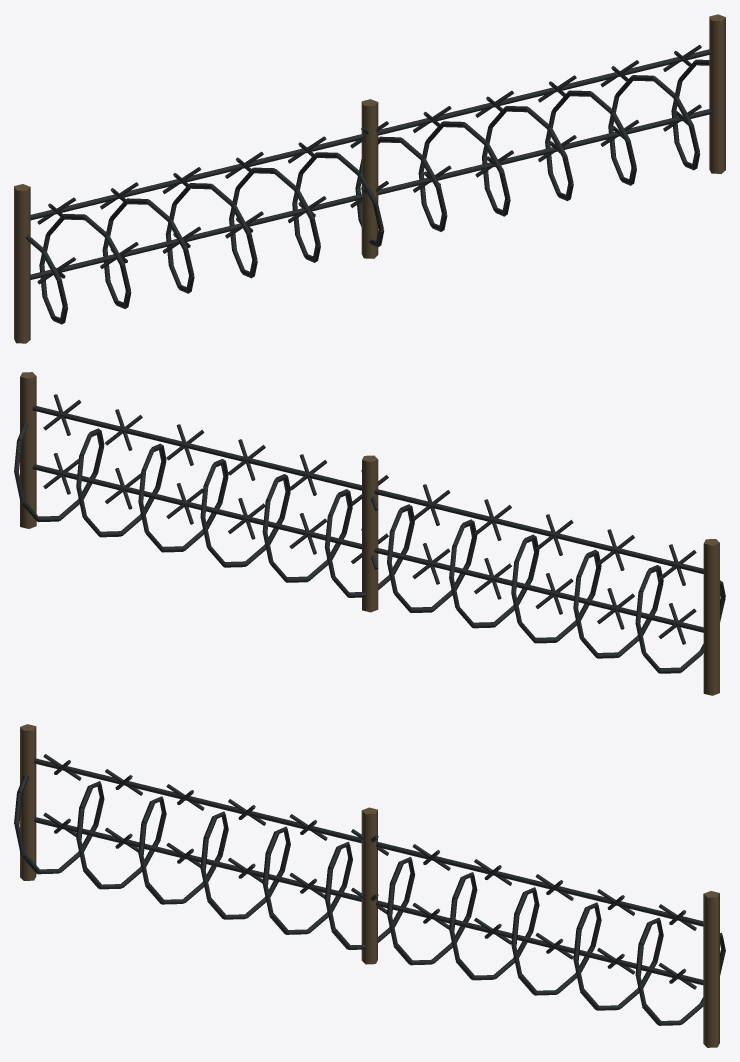
The model's file is wire.glb.
The picture shows the model from 3 angles, top to bottom: view 1: azimuth 30°, elevation 25°; view 2: azimuth 150°, elevation 25°; view 3: azimuth 330°, elevation 25°; orthographic projection.
Visible parts, largest first — view 1: body; view 2: body; view 3: body.
Part boxes in pixels (<box>): body: <box>14,14,725,343</box>; body: <box>14,372,725,695</box>; body: <box>14,724,725,1047</box>.
Bounding box in the file's own units: 5.1 × 1.05 × 0.6447.
